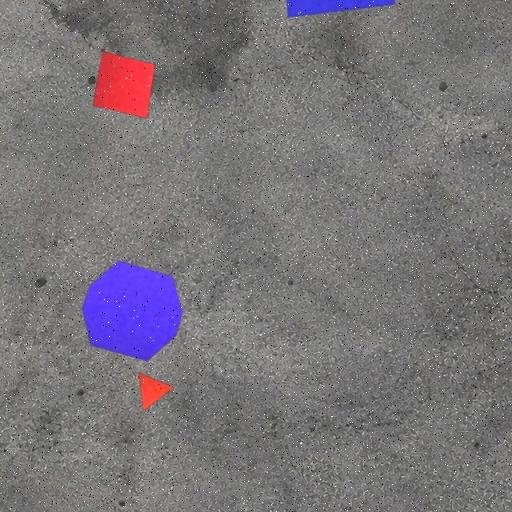RED_SQUARE: (92, 50, 156, 120)
